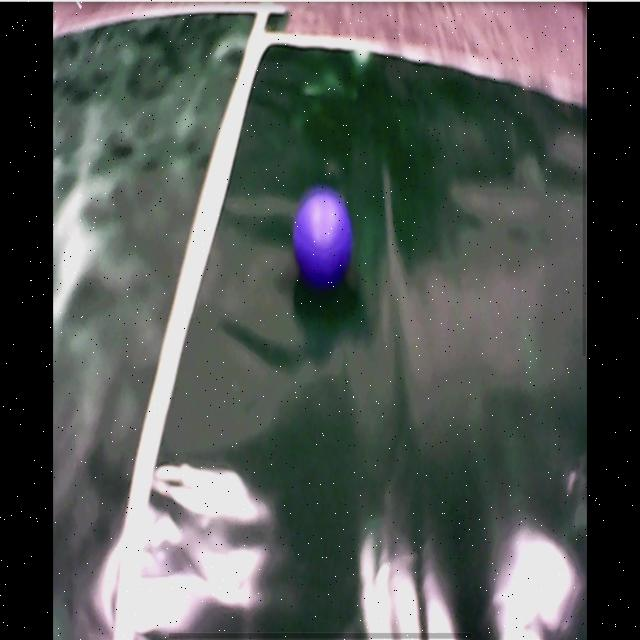ball: (296, 192, 354, 281)
